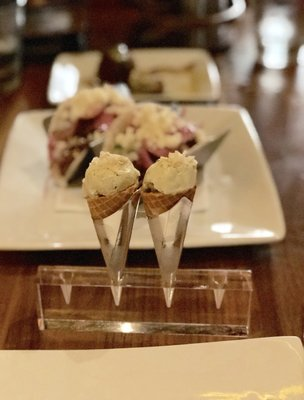pizza: (142, 193, 193, 309), (0, 0, 27, 97)
